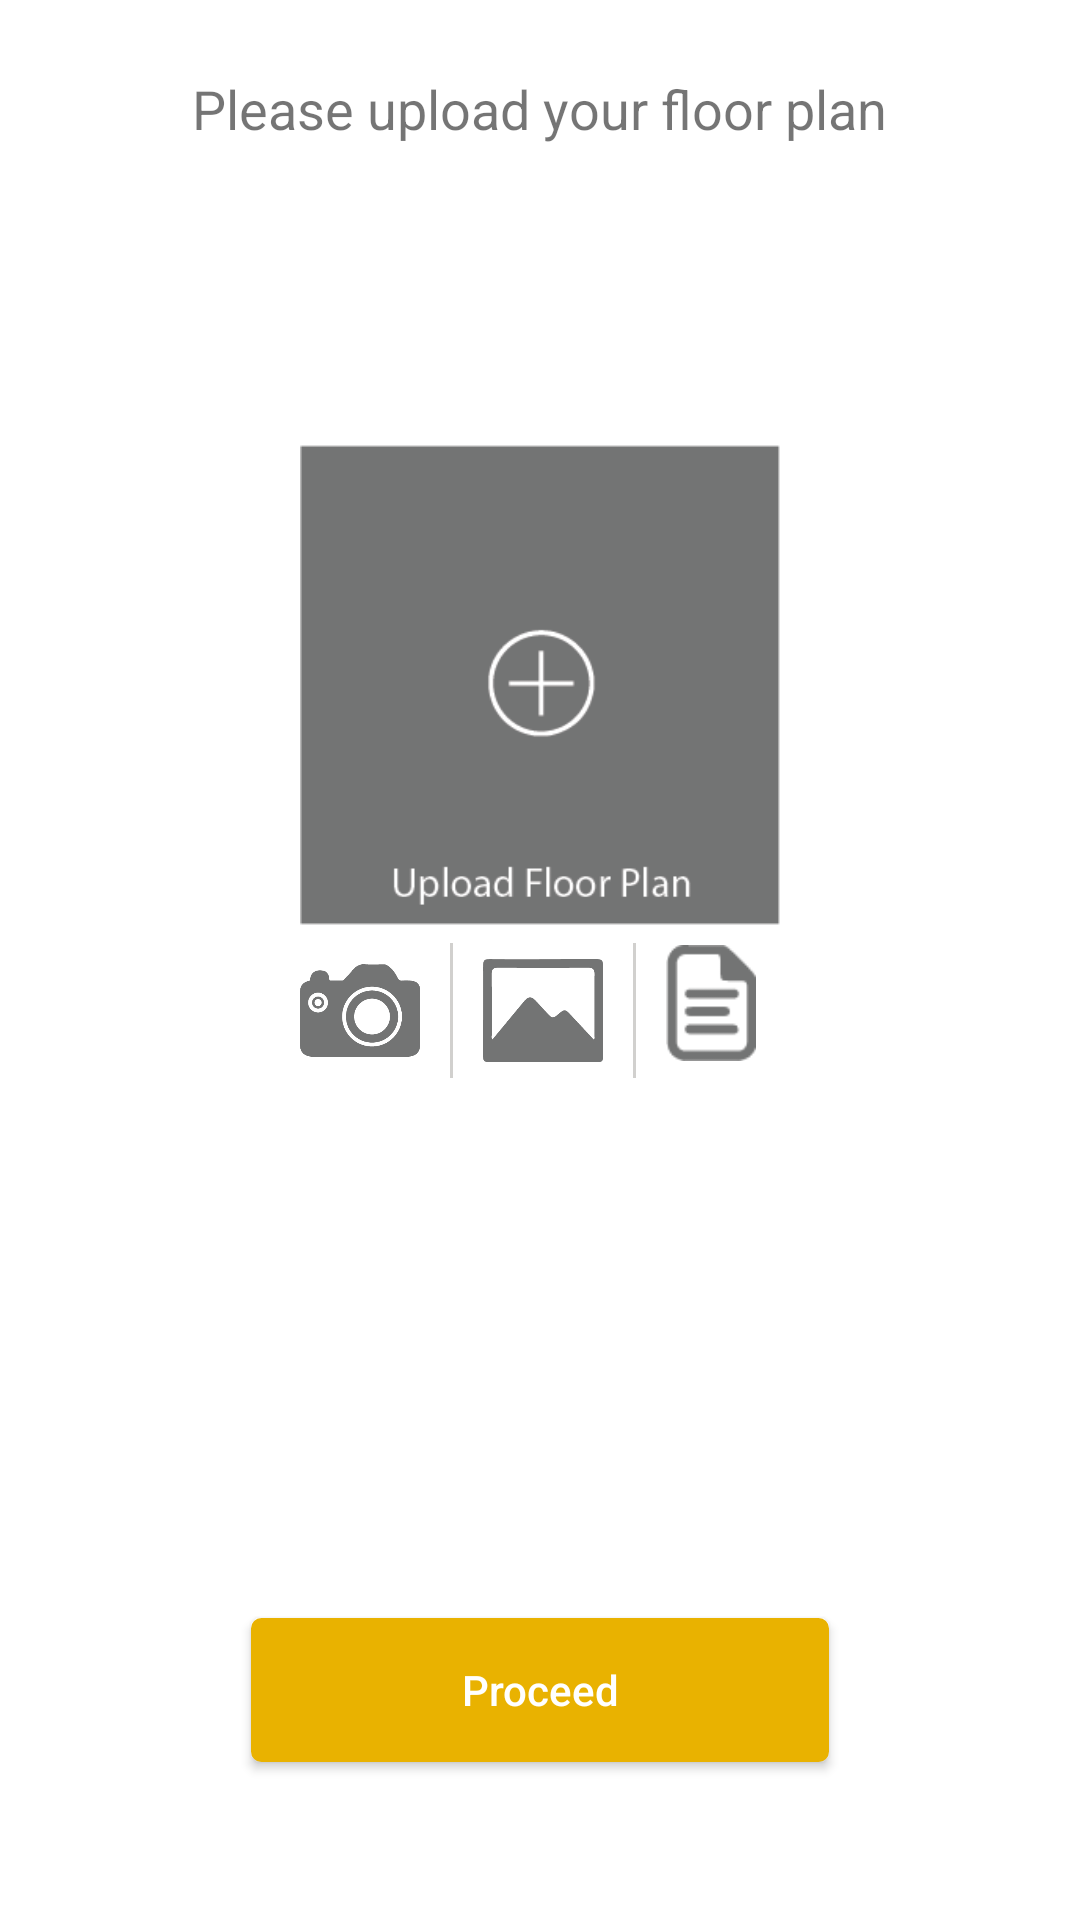

Locate icon controls on the screen. Image size 1080 x 1920, boxes as (x1, y1, x2, y2).
camera: (300, 964, 420, 1057)
file: (666, 945, 756, 1061)
gallery: (483, 959, 603, 1062)
